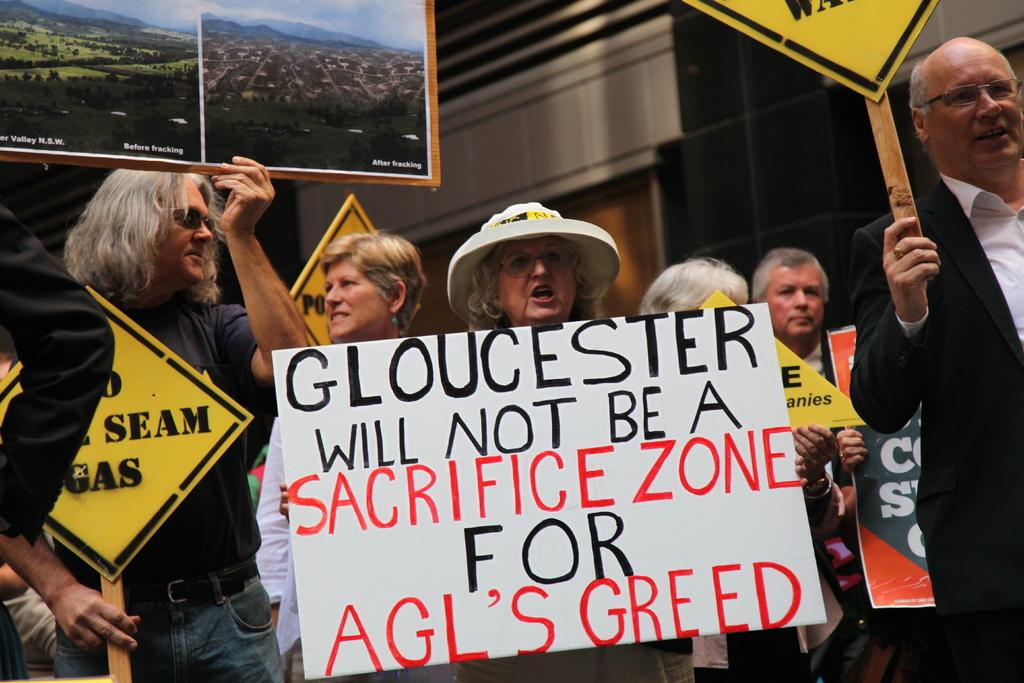Hat: (448, 198, 618, 330)
